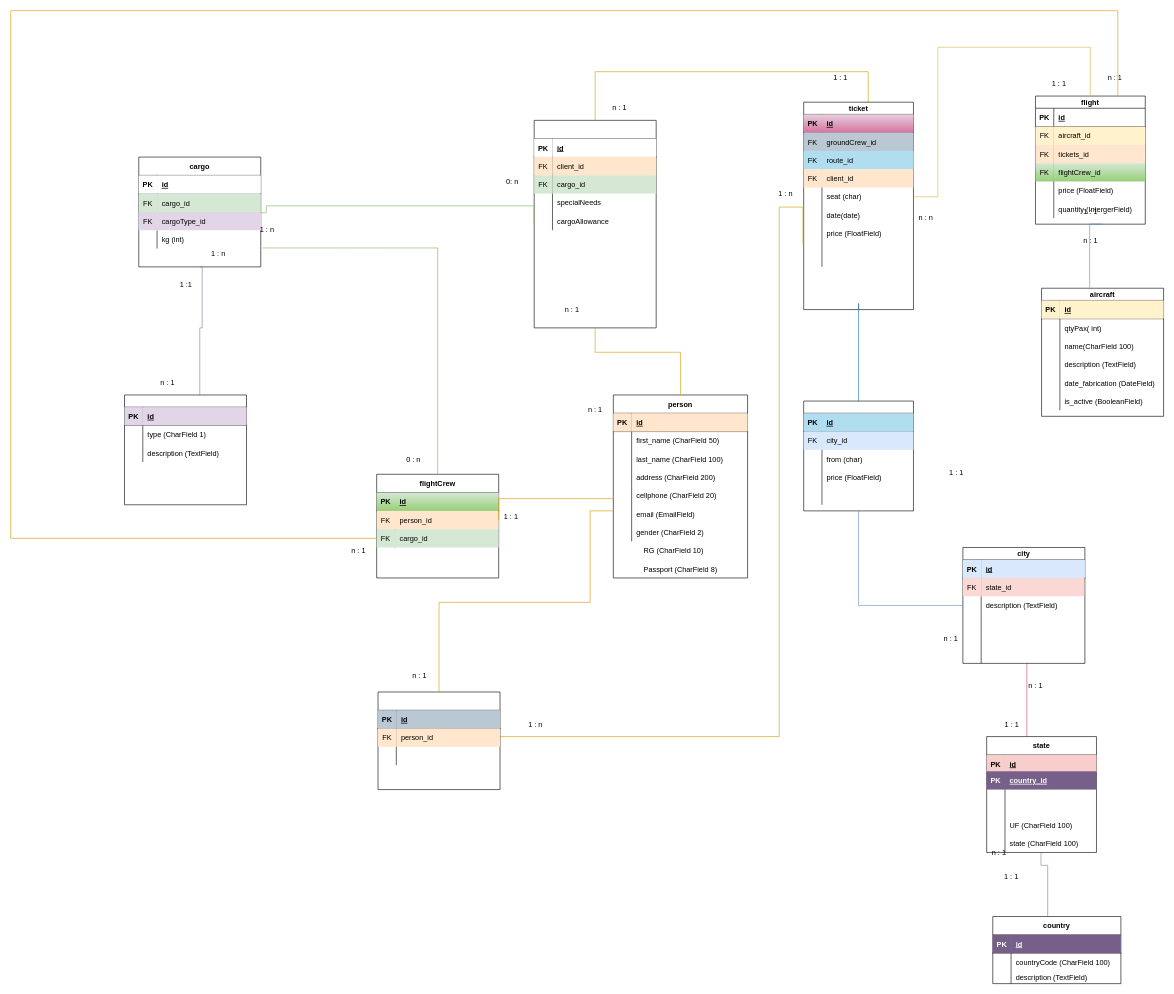
Some shapes in this 1174 by 994 pixel diagram are drawn without their labels. The box of each missing label's shape, as (x1, y1, x2, y2) in pixels:
cargoType: (124, 394, 247, 505)
groundCrew: (377, 691, 500, 790)
passenger: (534, 120, 656, 328)
route: (803, 400, 913, 511)
